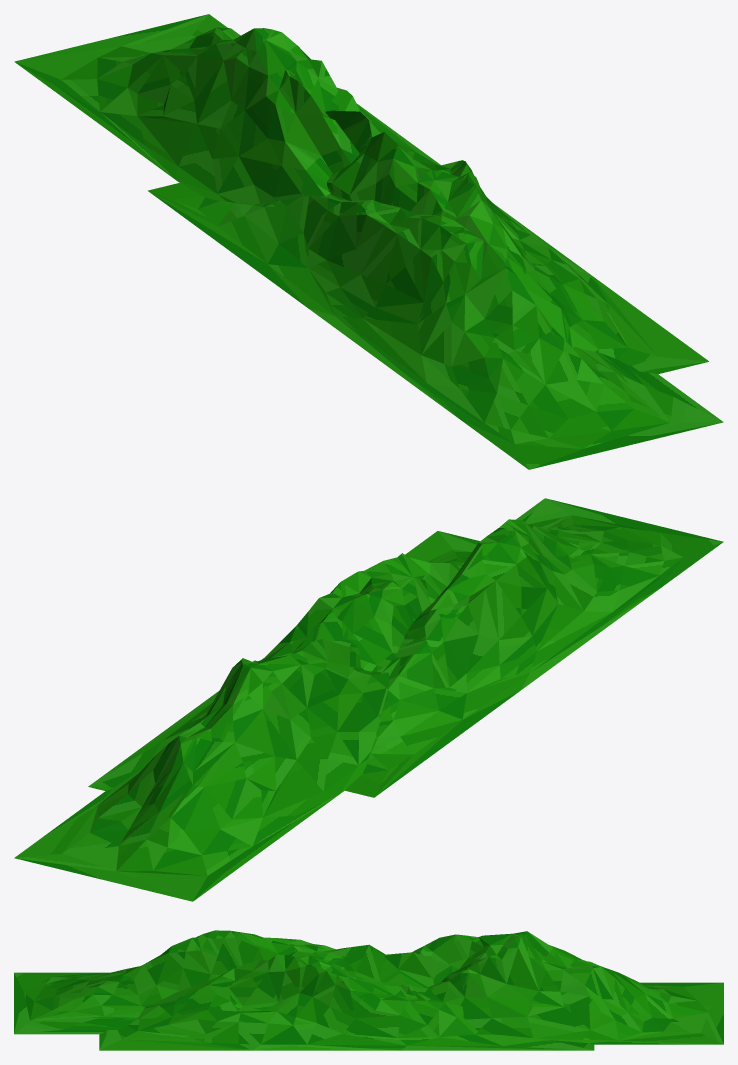
Rendered from WoonplaatsHills.fbx.
3 renders of one model, top to bottom at view 1: azimuth 30°, elevation 25°; view 2: azimuth 150°, elevation 25°; view 3: azimuth 270°, elevation 25°, orthographic. The views are drawn at different scales.
Visible parts, largest first — view 1: Landscape_2, Landscape_3, Landscape_1; view 2: Landscape_3, Landscape_2, Landscape_1; view 3: Landscape_1, Landscape_3, Landscape_2.
Boxes of the visible parts, x1,y1,x2,y2 form: Landscape_2: [148, 183, 723, 469]; Landscape_3: [14, 14, 360, 203]; Landscape_1: [325, 103, 708, 374]; Landscape_3: [14, 639, 388, 901]; Landscape_2: [345, 498, 723, 797]; Landscape_1: [88, 531, 479, 790]; Landscape_1: [99, 944, 594, 1050]; Landscape_3: [400, 931, 723, 1044]; Landscape_2: [14, 930, 335, 1034].
Size of the model in its own units: 5596 by 2661 by 21509.
Materials: 3 (3 with a texture image).
